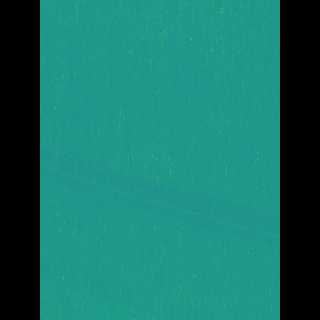Loch: (69, 139, 251, 267), (71, 257, 226, 320)
